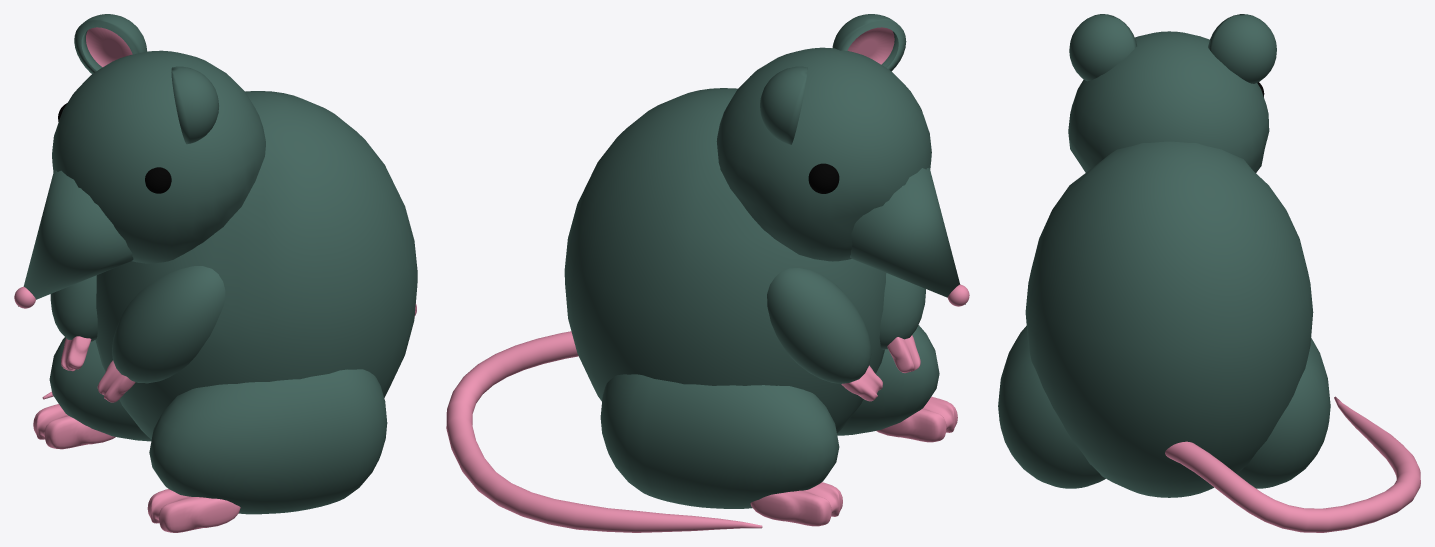
Rendered from rat green.fbx.
The picture shows the model from 3 angles, left to right: view 1: azimuth 30°, elevation 25°; view 2: azimuth 150°, elevation 25°; view 3: azimuth 270°, elevation 25°; orthographic projection. The views are drawn at different scales.
Visible parts, largest first — view 1: Body.002, LegR.002, Arm R.002, Leg L.002, Ear L.002, FootR.002, Ear R.002, Arm L.002, footL.002, HandR.002, HandL.002, Eye R.002; view 2: Body.002, Leg L.002, tail.002, Arm L.002, LegR.002, Ear R.002, footL.002, Ear L.002, Arm R.002, FootR.002, HandR.002, Eye L.002 (+1 smaller); view 3: Body.002, tail.002, LegR.002, Leg L.002, Ear L.002, Ear R.002.
Boxes of the visible parts, x1,y1,x2,y2 form: Body.002: (18,50,417,439); LegR.002: (149,369,387,514); Arm R.002: (112,266,225,383); Leg L.002: (49,337,151,441); Ear L.002: (74,14,147,73); FootR.002: (147,489,240,532); Ear R.002: (171,66,218,144); Arm L.002: (50,275,97,341); footL.002: (33,404,115,449); HandR.002: (97,360,135,402); HandL.002: (61,336,91,371); Eye R.002: (145,167,171,193); Body.002: (564,47,965,432); Leg L.002: (600,374,839,508); tail.002: (446,331,762,532); Arm L.002: (767,268,871,383); LegR.002: (837,325,939,435); Ear R.002: (832,14,906,71); footL.002: (750,482,842,526); Ear L.002: (760,66,807,144); Arm R.002: (879,273,925,349); FootR.002: (876,396,957,442); HandR.002: (887,335,920,372); Eye L.002: (808,163,839,193); Body.002: (1025,31,1313,497); tail.002: (1165,396,1420,532); LegR.002: (998,326,1105,488); Leg L.002: (1237,338,1330,488); Ear L.002: (1208,14,1276,83); Ear R.002: (1069,14,1136,81).
Bounding box in the file's own units: 338 × 322 × 294.
